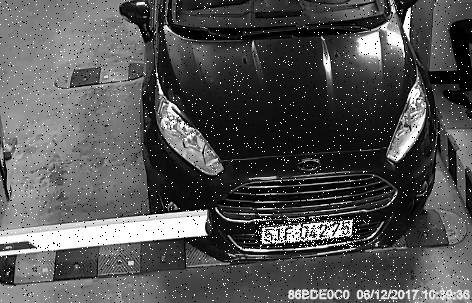License-plate: (257, 217, 362, 248)
